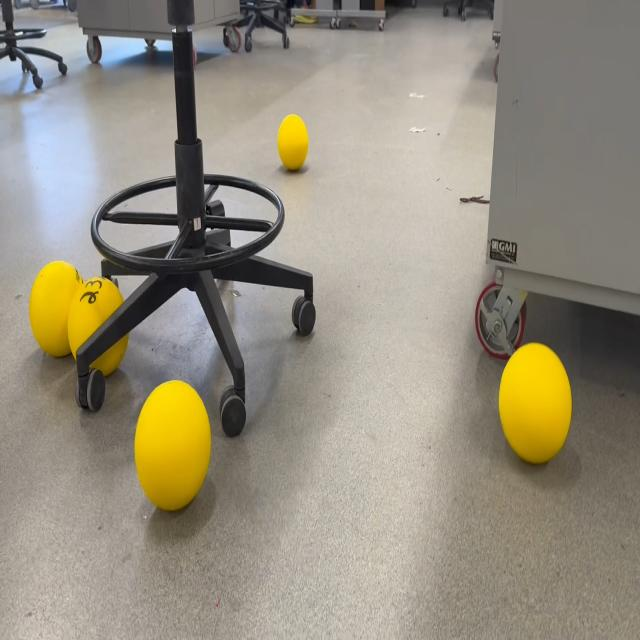Fuel: (134, 379, 212, 512), (498, 341, 572, 465), (67, 276, 129, 377), (30, 260, 86, 358), (277, 114, 309, 172)
